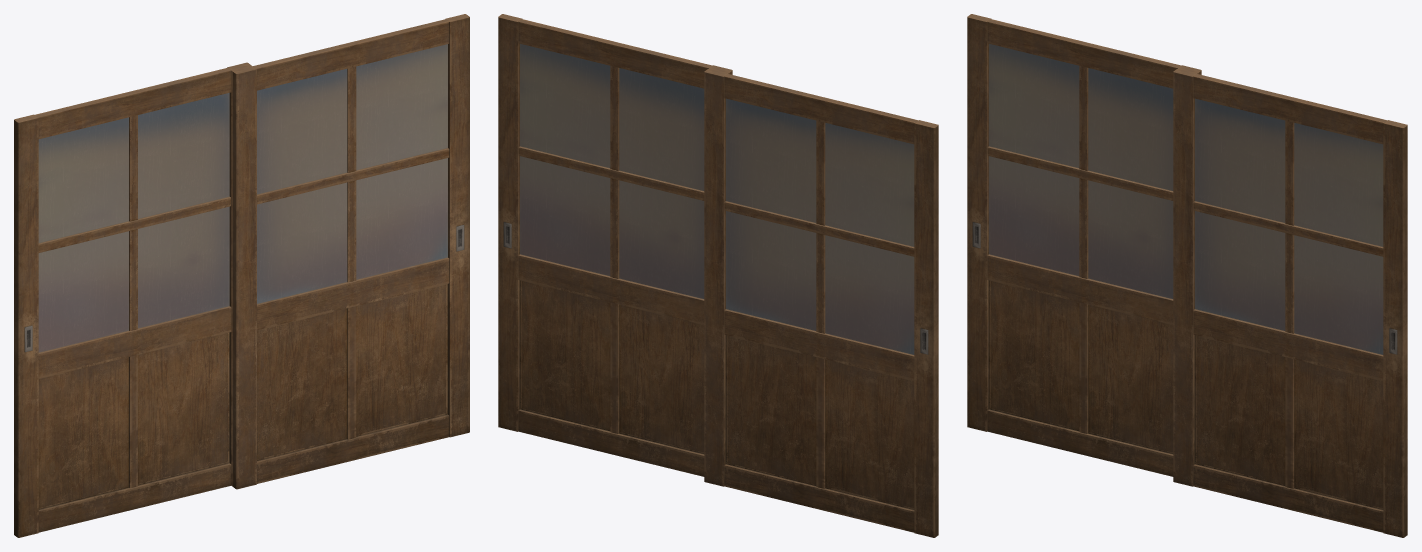
Rendered from Door_B.fbx.
3 renders of one model, left to right at view 1: azimuth 30°, elevation 25°; view 2: azimuth 150°, elevation 25°; view 3: azimuth 330°, elevation 25°, orthographic.
Visible parts, largest first — view 1: Door_B_Right, Door_B_Left; view 2: Door_B_Left, Door_B_Right; view 3: Door_B_Right, Door_B_Left.
Part boxes in pixels (x1,y1,x2,y2): Door_B_Right: (232,14,469,489); Door_B_Left: (14,62,251,537); Door_B_Left: (704,69,938,537); Door_B_Right: (498,14,732,476); Door_B_Right: (1173,69,1407,537); Door_B_Left: (967,14,1201,476).
Bounding box in the file's own units: 219 × 194 × 8.43.
Materials: 1 (1 with a texture image).
